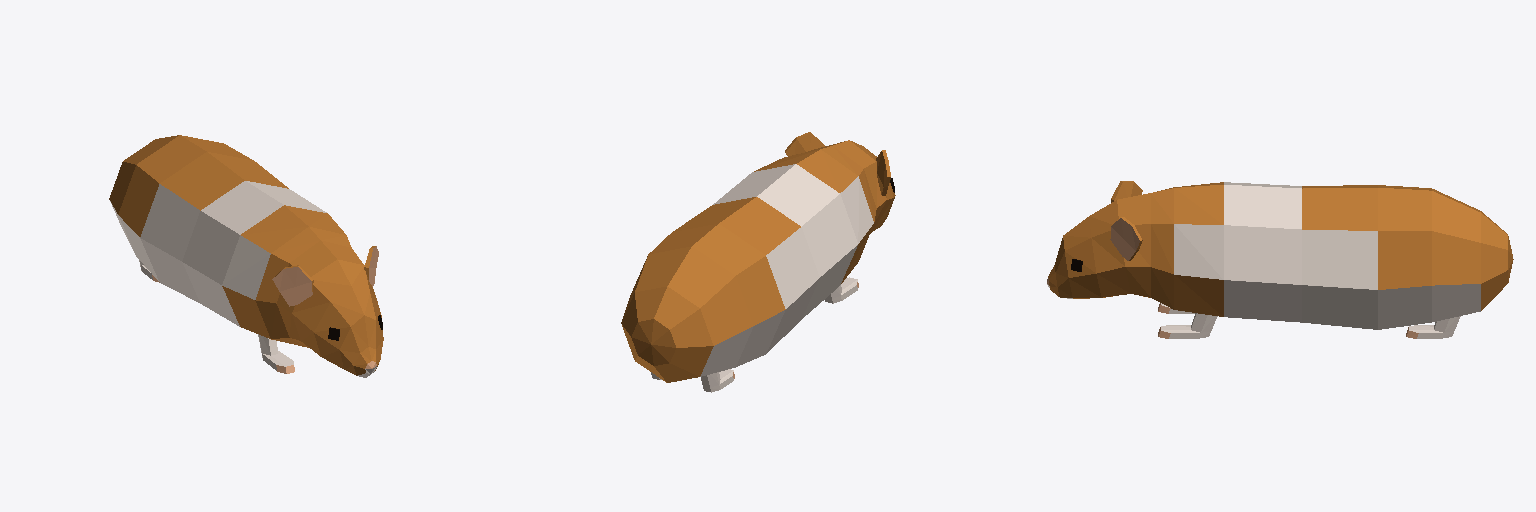
3 views of the same model, side by side, from view 1: azimuth 30°, elevation 25°; view 2: azimuth 150°, elevation 25°; view 3: azimuth 270°, elevation 25° (orthographic).
Parts seen in each view (by area): view 1: Geo_Hamster; view 2: Geo_Hamster; view 3: Geo_Hamster.
Boxes of the visible parts, box(x1,y1,x2,y2) form: Geo_Hamster: box(109, 135, 383, 377); Geo_Hamster: box(621, 132, 895, 392); Geo_Hamster: box(1047, 181, 1513, 338).
Bounding box in the file's own units: 36.89 × 37.69 × 112.
1 materials, 1 textured.